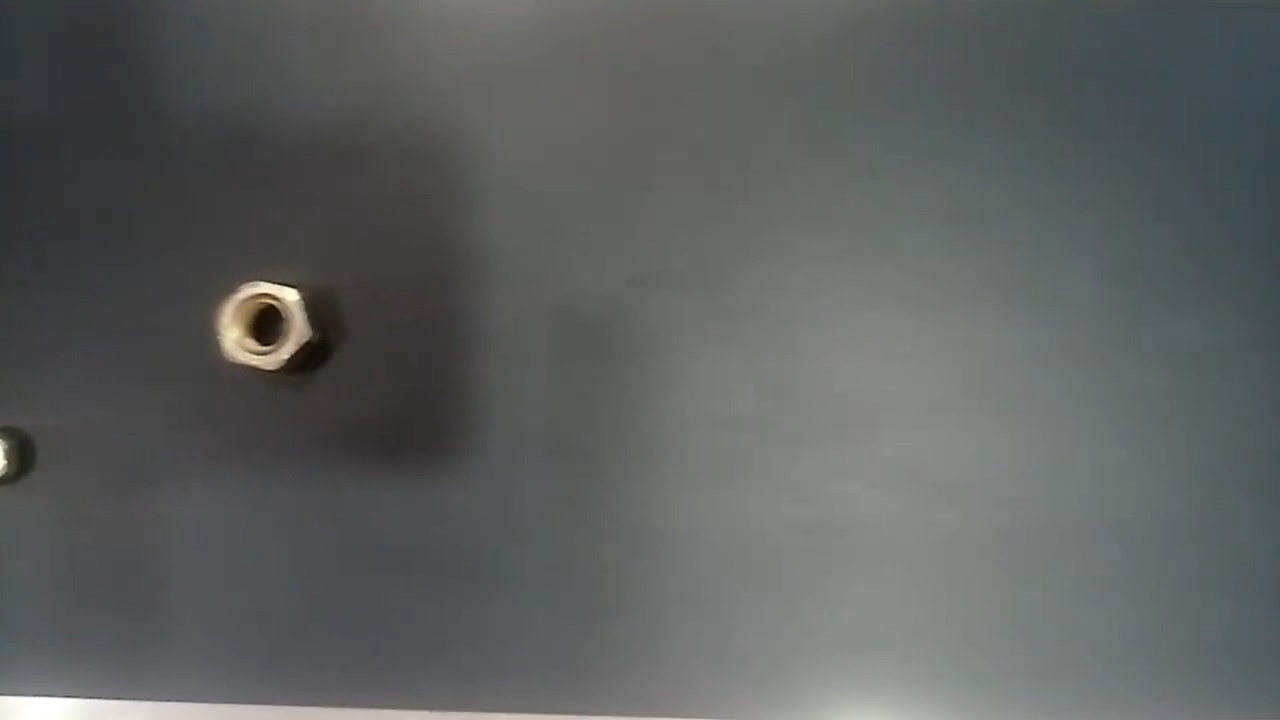Bolt: (212, 276, 320, 380)
